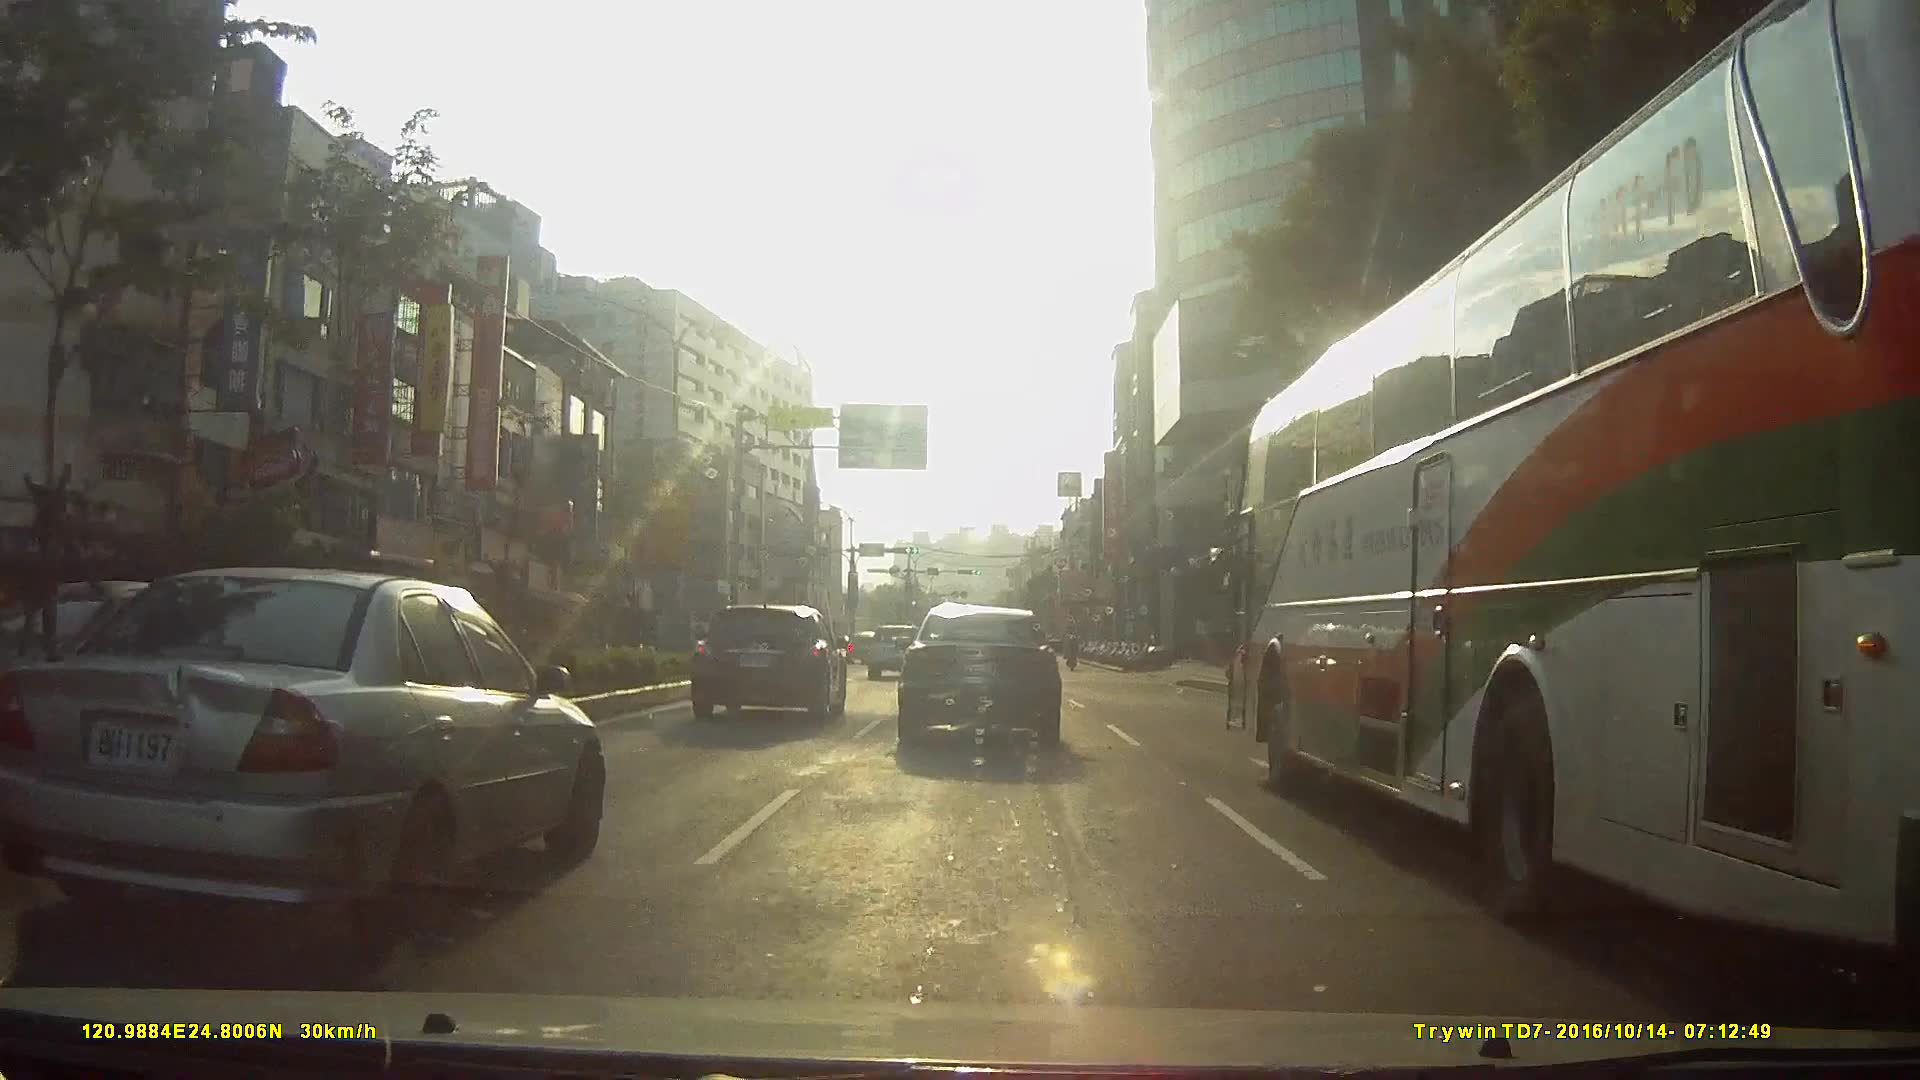vehicle: (1191, 51, 1915, 934), (0, 564, 603, 955), (891, 600, 1059, 750), (688, 603, 848, 721), (862, 624, 924, 680)
